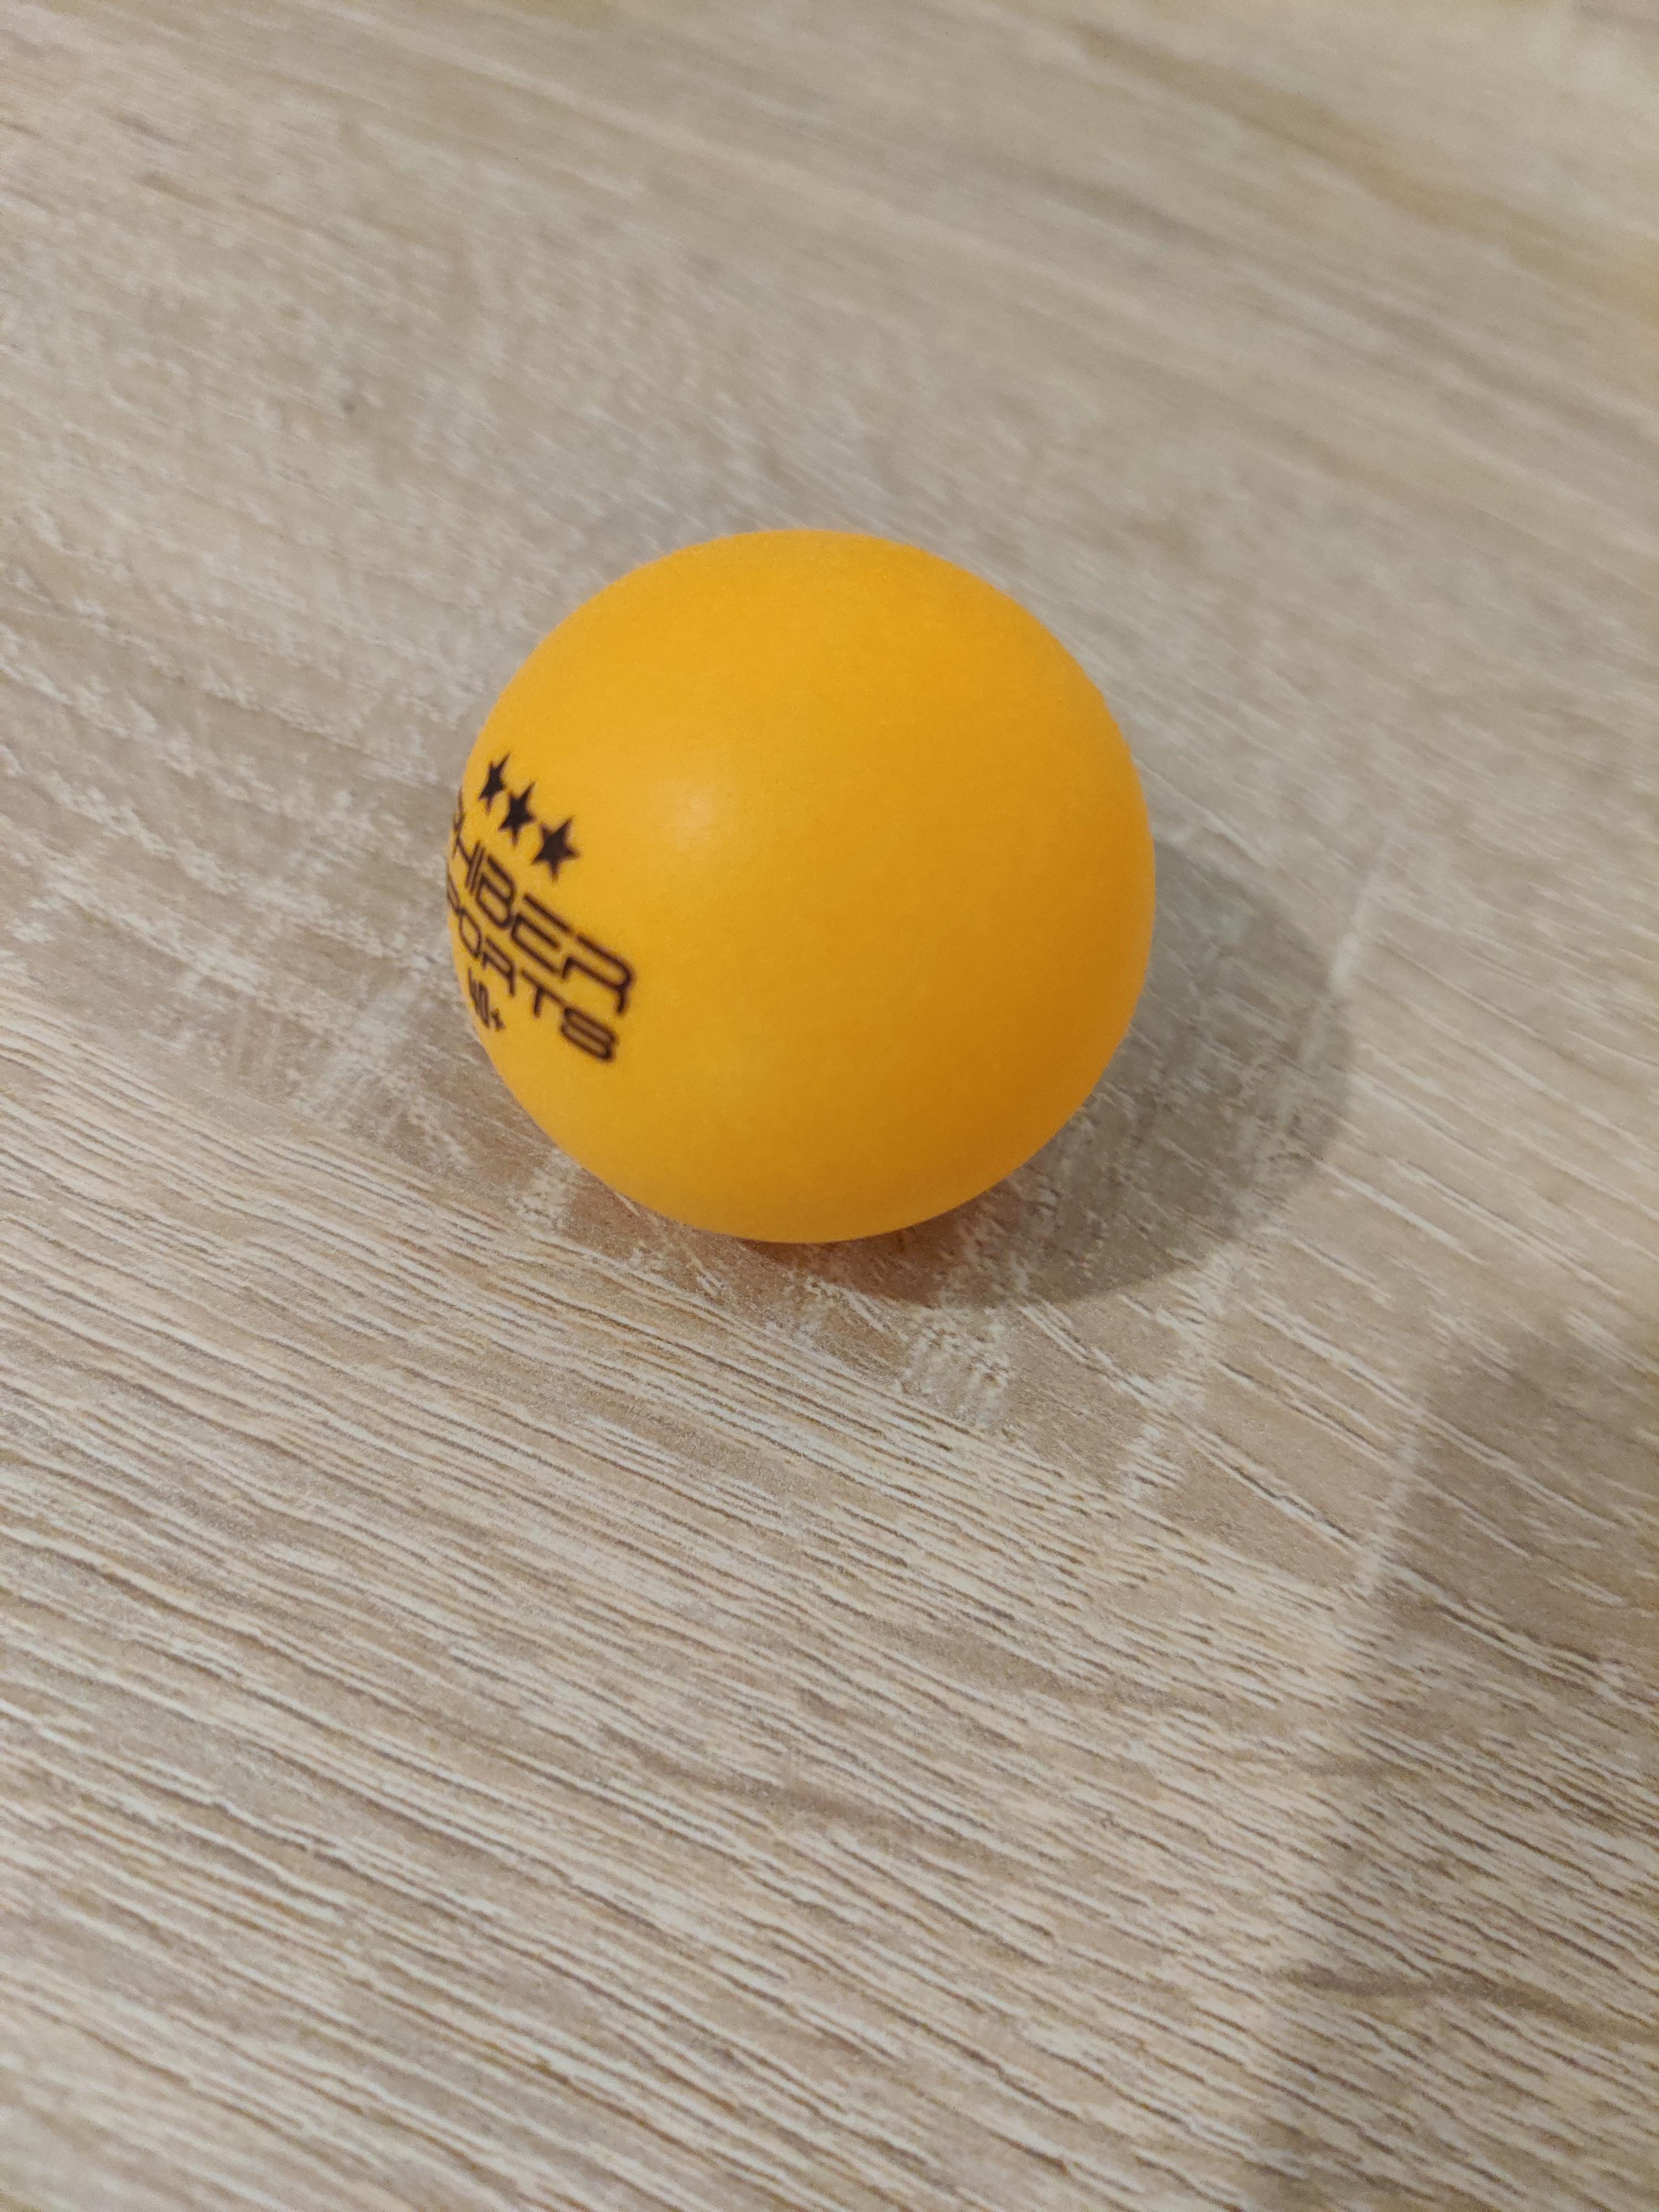orange: (444, 517, 1161, 1254)
